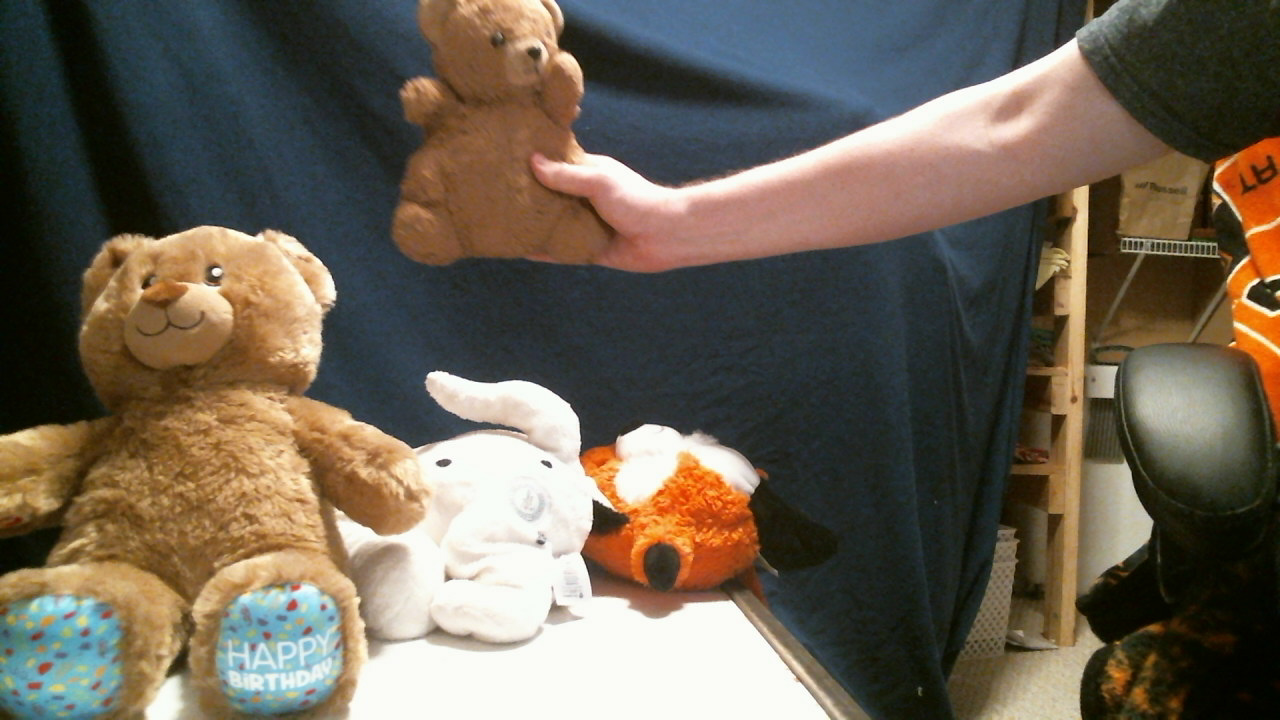Little_Mister_Bear: (486, 24, 562, 92)
